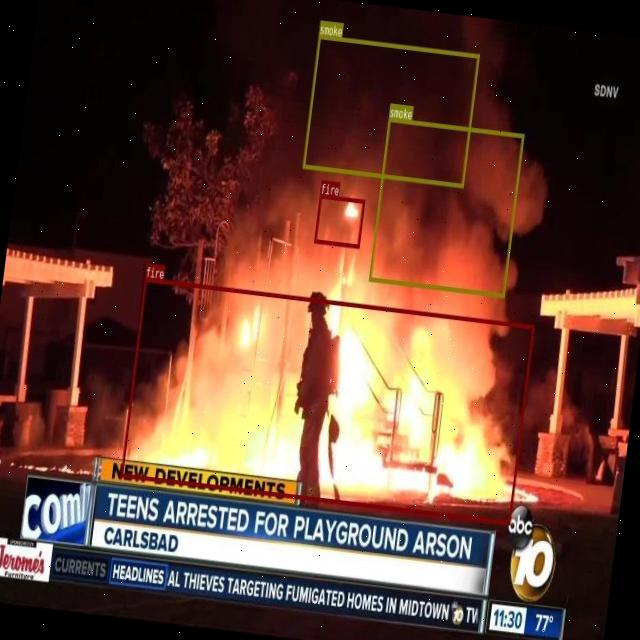fire: (120, 277, 534, 524), (314, 193, 364, 247)
smoke: (368, 117, 524, 296), (302, 34, 480, 188)
